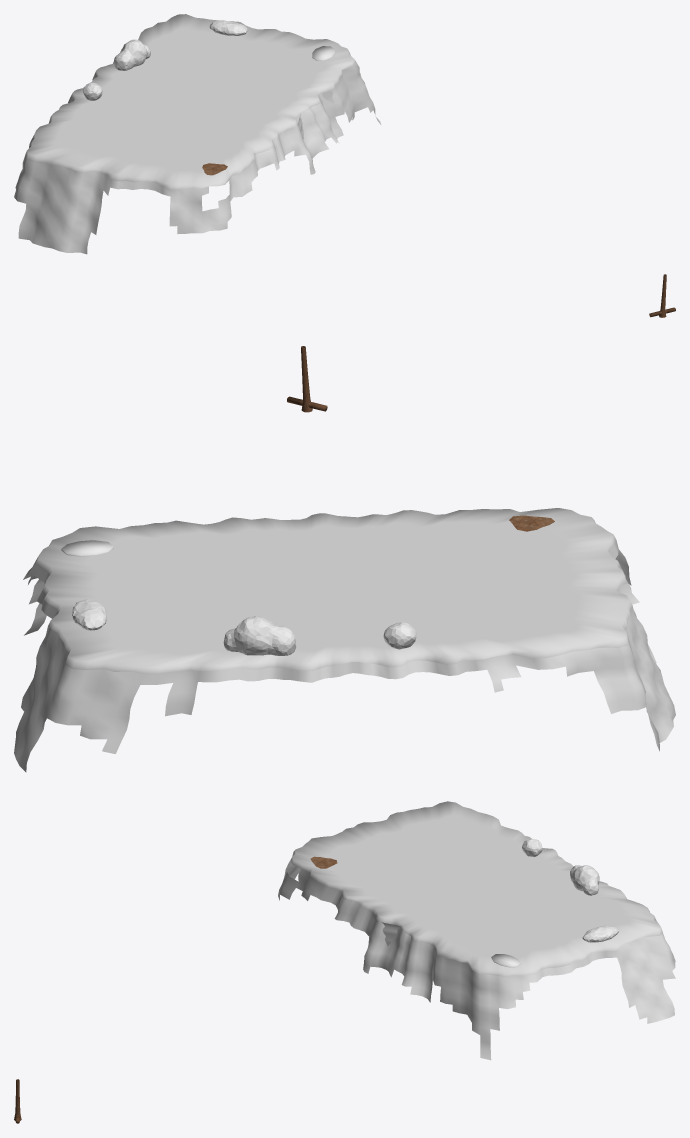
File: world-finish-terrace.fbx
3 views of the same model, one above another, from view 1: azimuth 30°, elevation 25°; view 2: azimuth 150°, elevation 25°; view 3: azimuth 270°, elevation 25° (orthographic). The views are drawn at different scales.
Visible parts, largest first — view 1: W7_F_Terrace__grass, W7_F_TerraceFace__cliff_rock, W7_F_TerraceRocks__cliff_rock; view 2: W7_F_Terrace__grass, W7_F_TerraceFace__cliff_rock, W7_F_TerraceRocks__cliff_rock, W7_F_TerraceSlab__boulder_rock; view 3: W7_F_Terrace__grass, W7_F_TerraceFace__cliff_rock, W7_F_TerraceRocks__cliff_rock.
Part boxes in pixels (x1,y1,x2,y2): W7_F_Terrace__grass: (25, 14, 355, 189); W7_F_TerraceFace__cliff_rock: (14, 52, 381, 254); W7_F_TerraceRocks__cliff_rock: (83, 20, 247, 100); W7_F_Terrace__grass: (35, 508, 632, 674); W7_F_TerraceFace__cliff_rock: (14, 540, 675, 772); W7_F_TerraceRocks__cliff_rock: (72, 599, 416, 655); W7_F_TerraceSlab__boulder_rock: (61, 540, 113, 556); W7_F_Terrace__grass: (291, 801, 662, 976); W7_F_TerraceFace__cliff_rock: (278, 852, 675, 1060); W7_F_TerraceRocks__cliff_rock: (522, 839, 618, 942).
Size of the model in its own units: 11001 by 3035 by 13867.
